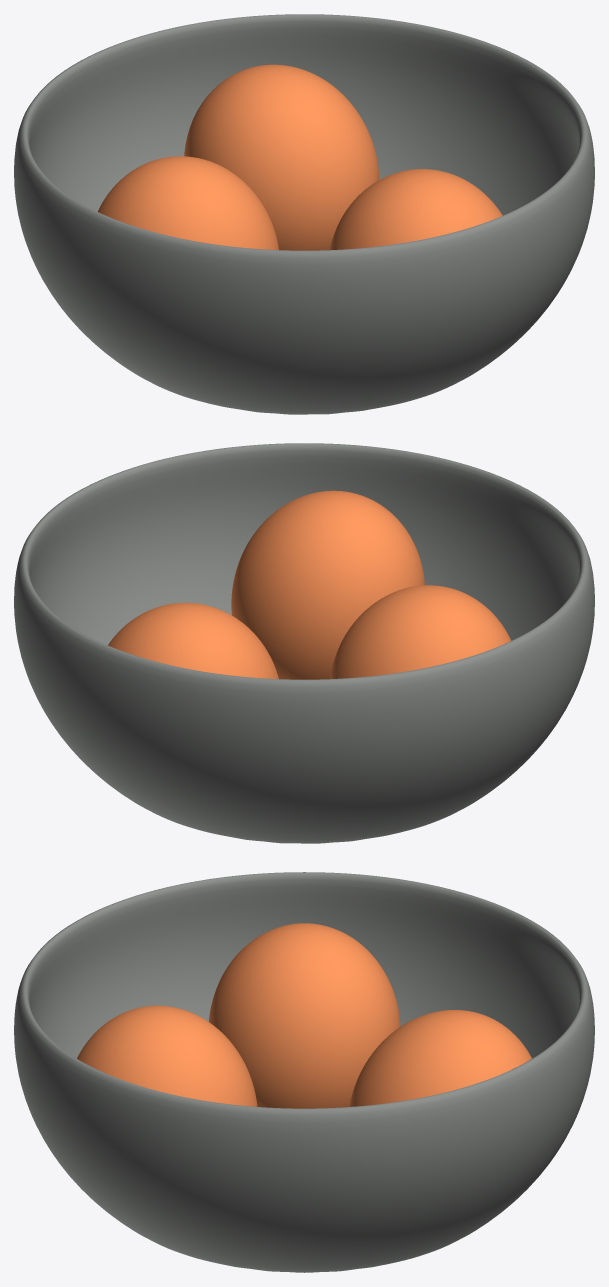
Rendered from Egg.fbx.
3 views of the same model, one above another, from view 1: azimuth 30°, elevation 25°; view 2: azimuth 150°, elevation 25°; view 3: azimuth 270°, elevation 25° (orthographic).
Visible parts, largest first — view 1: bol, huevo.002, huevo, huevo.001; view 2: bol, huevo.001, huevo, huevo.002; view 3: bol, huevo, huevo.001, huevo.002.
Part boxes in pixels (x1,y1,x2,y2): bol: (14, 14, 594, 414); huevo.002: (184, 64, 379, 250); huevo: (97, 156, 278, 249); huevo.001: (329, 169, 502, 249); bol: (14, 443, 594, 843); huevo.001: (231, 490, 424, 679); huevo: (330, 585, 511, 678); huevo.002: (108, 602, 278, 678); bol: (14, 872, 594, 1272); huevo: (208, 923, 400, 1108); huevo.001: (77, 1005, 257, 1106); huevo.002: (349, 1010, 531, 1106).
Bounding box in the file's own units: 596 × 249 × 596.
